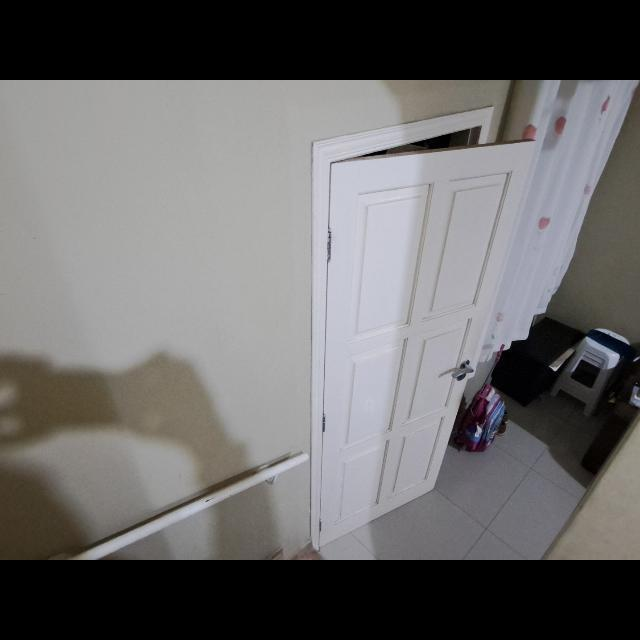door: (311, 137, 537, 550)
